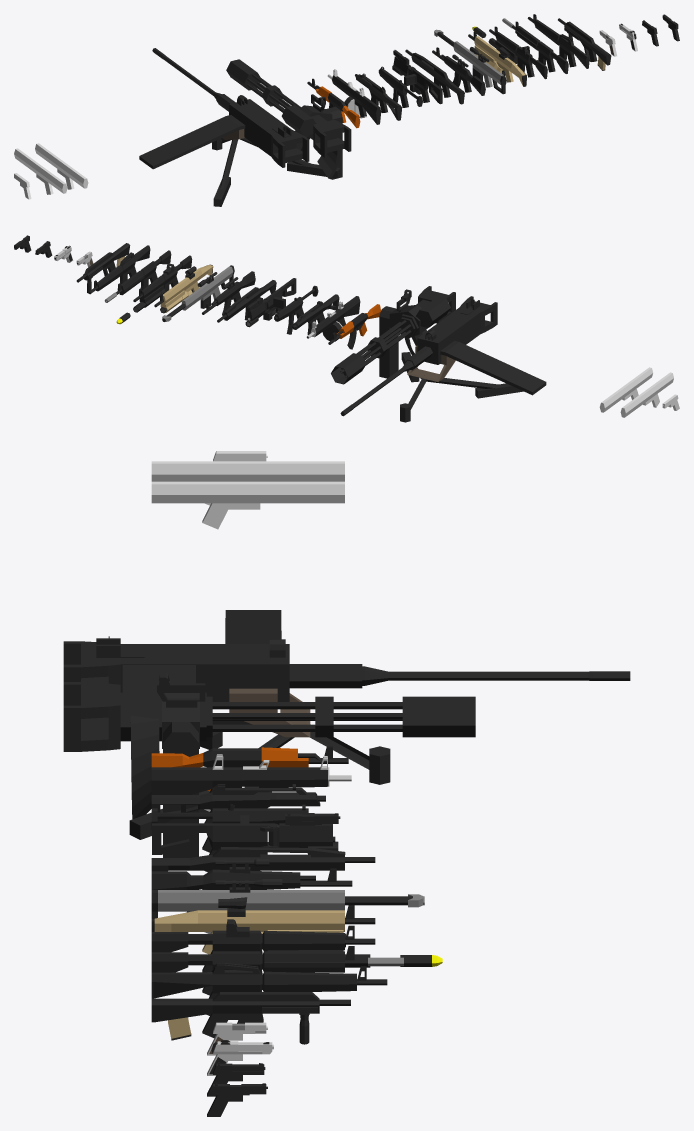
Rendered from low poly modern weapons.glb.
The picture shows the model from 3 angles, top to bottom: view 1: azimuth 30°, elevation 25°; view 2: azimuth 150°, elevation 25°; view 3: azimuth 270°, elevation 25°; orthographic projection. The views are drawn at different scales.
Visible parts, largest first — view 1: Browning M2, M134.001, m2 ammo belt (unfinished), M2 tripod, M134(barrels), M107, AA-12, XM8, 416, M16A4, SCAR-L, rifle_base_mesh.001 (+10 smaller); view 2: Browning M2, M134.001, m2 ammo belt (unfinished), M2 tripod, M134(barrels), M107, M134, AA-12, rifle_base_mesh, rifle_base_mesh.001, M16A4, 416 (+10 smaller); view 3: M134.001, Browning M2, M134(barrels), rifle_base_mesh.001, M107, AA-12, M16A4, AUG A3, M2 tripod, rifle_base_mesh, SCAR-L, M4A1 (+13 smaller).
Part boxes in pixels (x1=…): Browning M2: x1=216, y1=94, x2=309, y2=167; M134.001: x1=281, y1=94, x2=351, y2=179; m2 ammo belt (unfinished): x1=139, y1=115, x2=245, y2=169; M2 tripod: x1=212, y1=129, x2=340, y2=206; M134(barrels): x1=226, y1=59, x2=301, y2=112; M107: x1=434, y1=29, x2=506, y2=94; AA-12: x1=327, y1=69, x2=381, y2=124; XM8: x1=405, y1=49, x2=464, y2=104; 416: x1=512, y1=21, x2=568, y2=73; M16A4: x1=527, y1=14, x2=589, y2=68; SCAR-L: x1=468, y1=32, x2=526, y2=86; rifle_base_mesh.001: x1=35, y1=143, x2=88, y2=189; Browning M2: x1=404, y1=296, x2=497, y2=370; M134.001: x1=389, y1=286, x2=455, y2=355; m2 ammo belt (unfinished): x1=440, y1=341, x2=546, y2=395; M2 tripod: x1=400, y1=345, x2=523, y2=422; M134(barrels): x1=331, y1=317, x2=415, y2=384; M107: x1=162, y1=265, x2=234, y2=321; M134: x1=379, y1=306, x2=398, y2=378; AA-12: x1=306, y1=296, x2=360, y2=338; rifle_base_mesh: x1=620, y1=372, x2=673, y2=417; rifle_base_mesh.001: x1=599, y1=367, x2=652, y2=412; M16A4: x1=88, y1=245, x2=150, y2=294; 416: x1=115, y1=250, x2=171, y2=295; M134.001: x1=63, y1=665, x2=206, y2=819; Browning M2: x1=63, y1=636, x2=362, y2=701; M134(barrels): x1=206, y1=696, x2=475, y2=737; rifle_base_mesh.001: x1=151, y1=481, x2=344, y2=529; M107: x1=151, y1=890, x2=424, y2=933; AA-12: x1=151, y1=754, x2=351, y2=811; M16A4: x1=151, y1=966, x2=387, y2=1015; AUG A3: x1=151, y1=992, x2=350, y2=1037; M2 tripod: x1=129, y1=688, x2=390, y2=839; rifle_base_mesh: x1=151, y1=461, x2=344, y2=505; SCAR-L: x1=151, y1=905, x2=375, y2=954; M4A1: x1=151, y1=925, x2=375, y2=972.
Bounding box in the file's own units: 62.25 × 7.71 × 23.46.
